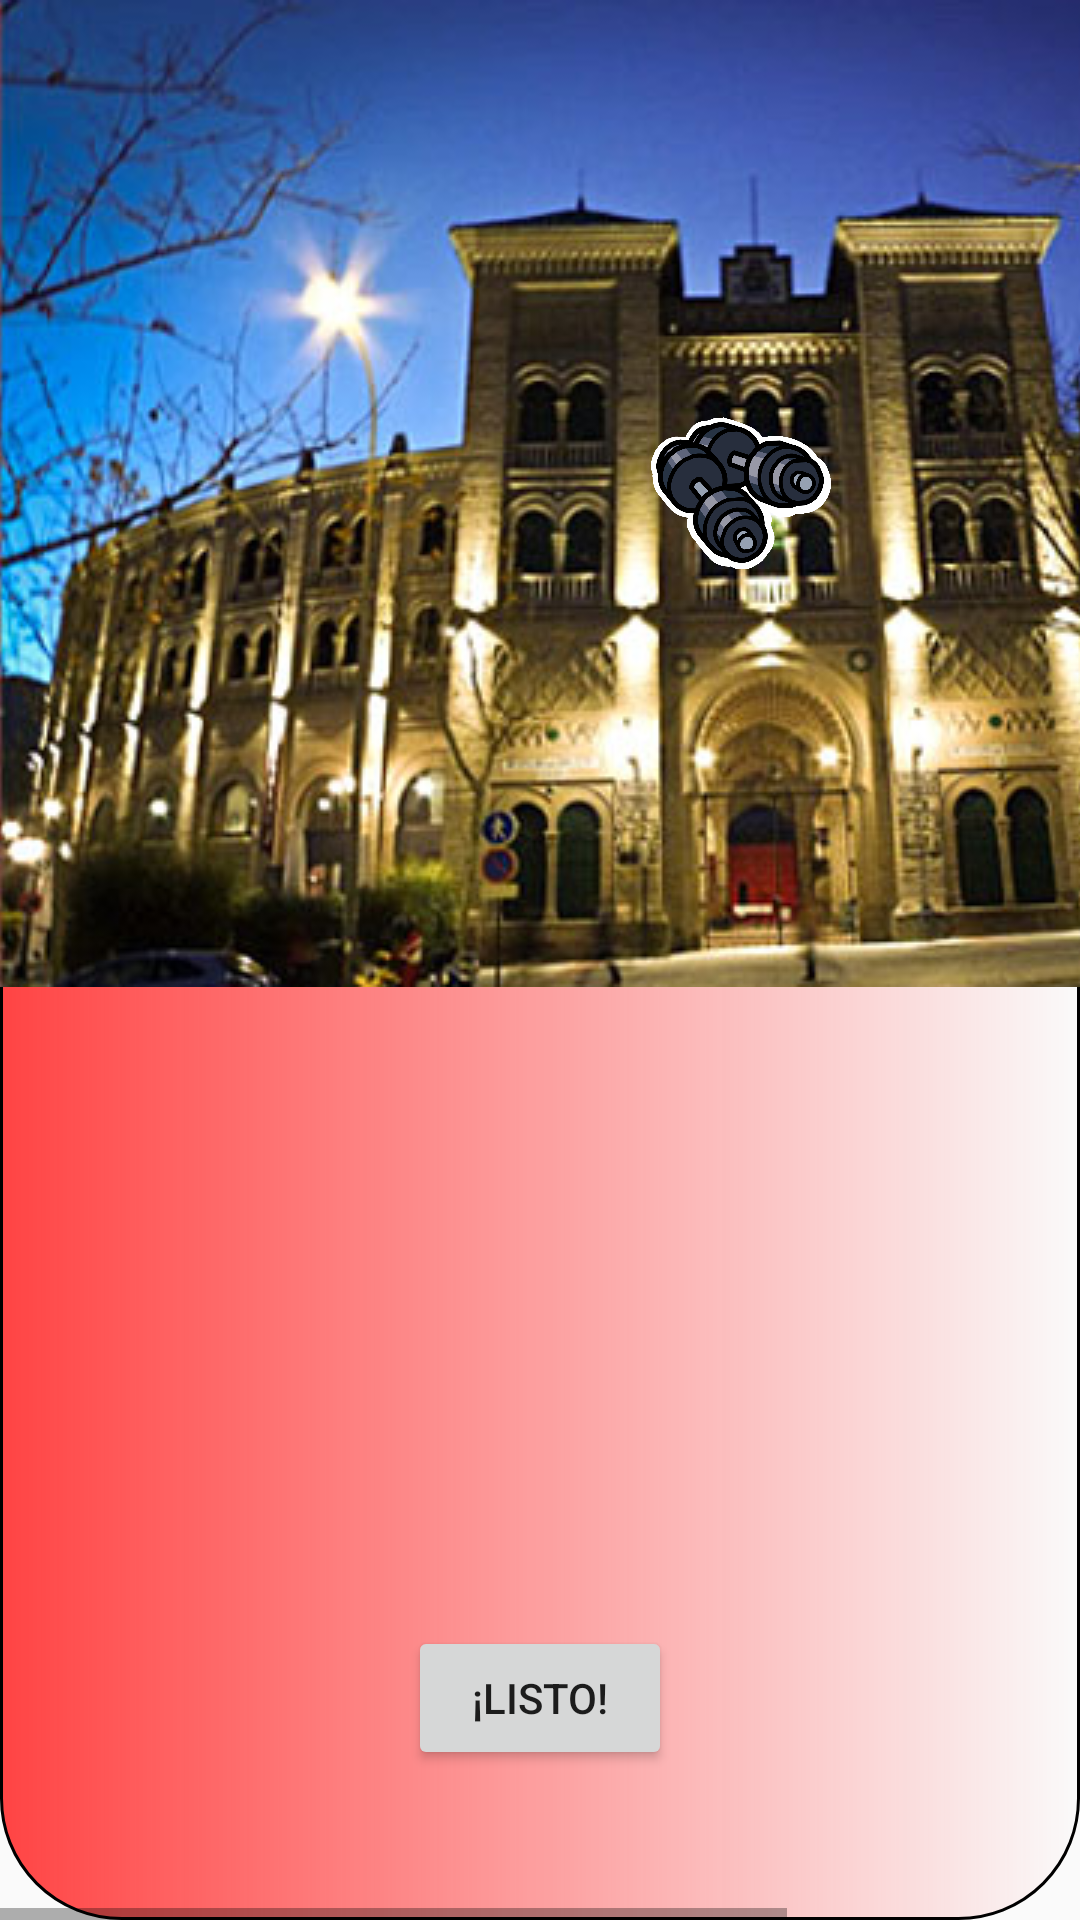

Point at icon controls on the screen. Image size 1080 × 1920, points as (x,y).
pesas: (741,493)
